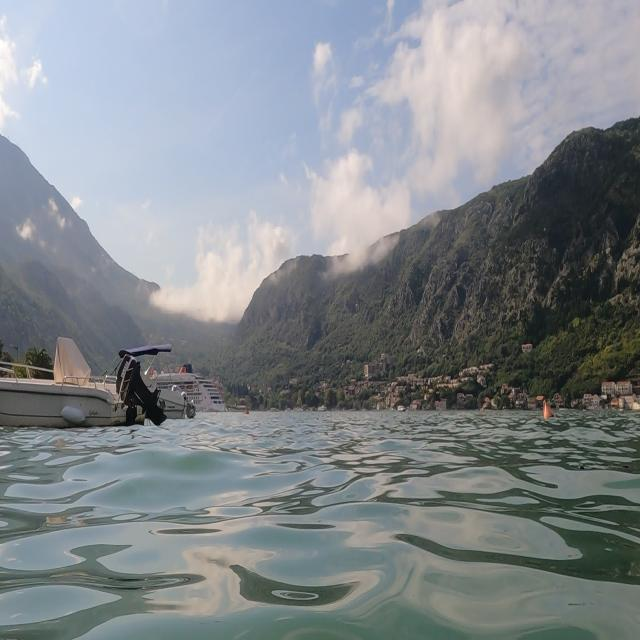boat: (1, 332, 175, 431), (145, 350, 236, 423)
buoy: (538, 397, 561, 428)
